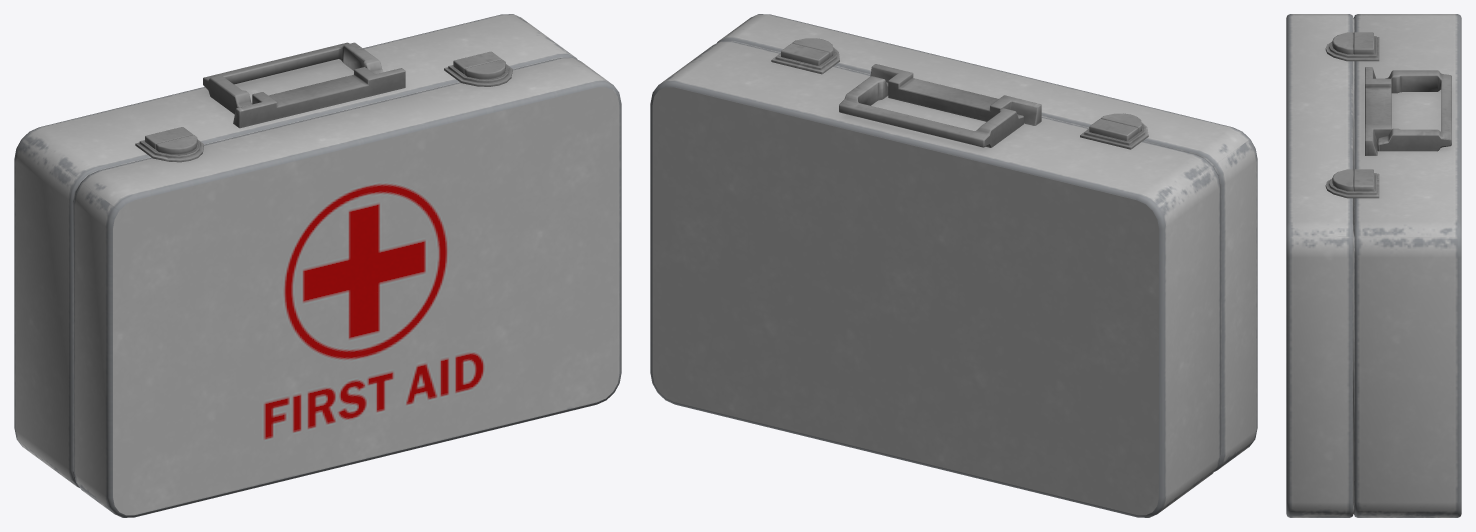
The model's file is medkit.glb.
The picture shows the model from 3 angles, left to right: view 1: azimuth 30°, elevation 25°; view 2: azimuth 150°, elevation 25°; view 3: azimuth 270°, elevation 25°; orthographic projection. The views are drawn at different scales.
Visible parts, largest first — view 1: Medkit; view 2: Medkit; view 3: Medkit.
Part boxes in pixels (<box>): Medkit: <box>14,14,621,517</box>; Medkit: <box>650,14,1257,517</box>; Medkit: <box>1286,14,1461,517</box>.
Size of the model in its own units: 0.52 by 0.3302 by 0.169.
Materials: 1 (1 with a texture image).
